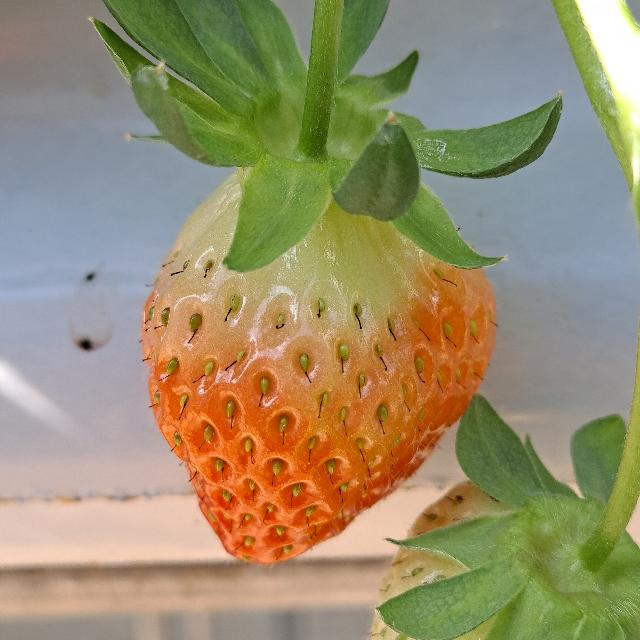Health_75: (140, 168, 496, 564)
